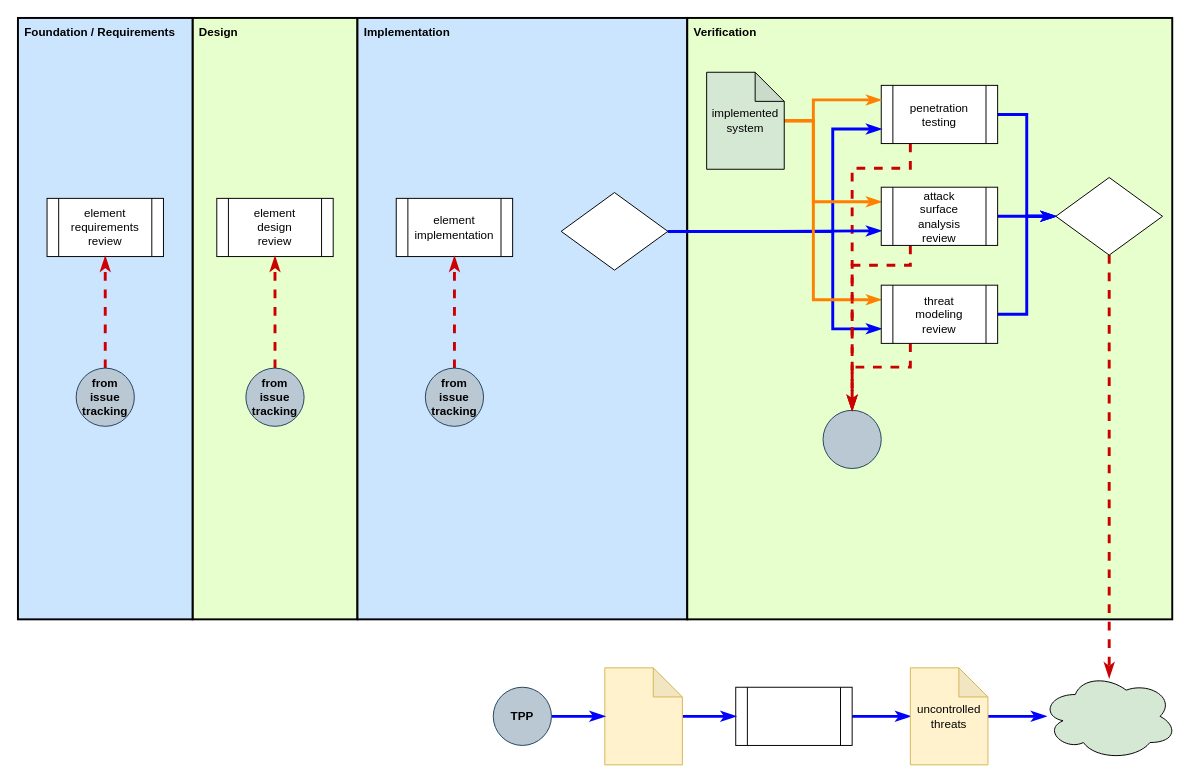
Image size: 1194x782. Some labels were removed from this diagram. Here are the shapes that lost their labels. From the top down, the box of each, then its label:
(560, 192, 668, 270): implementation gate
(1055, 177, 1163, 255): verification gate
(822, 409, 881, 469): to TPP
(604, 667, 682, 765): threat candidates
(735, 686, 852, 745): threat prioritization
(1040, 672, 1177, 760): task / issue tracking system
